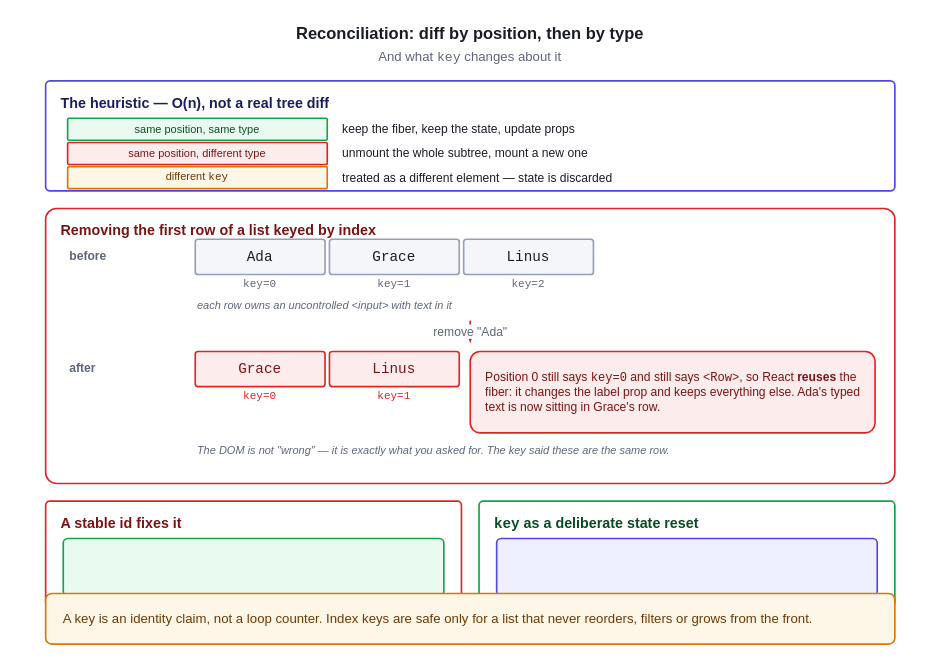
Some shapes in this 939 by 663 pixel diagram are drawn without their labels. Here are the shapes that lost their labels. From the top down, the centre of each, then its label:
point (253, 566): items.map(i => <Row key={i.id} … />)
point (686, 566): <Form key={userId} /> // switch user → fresh form state
